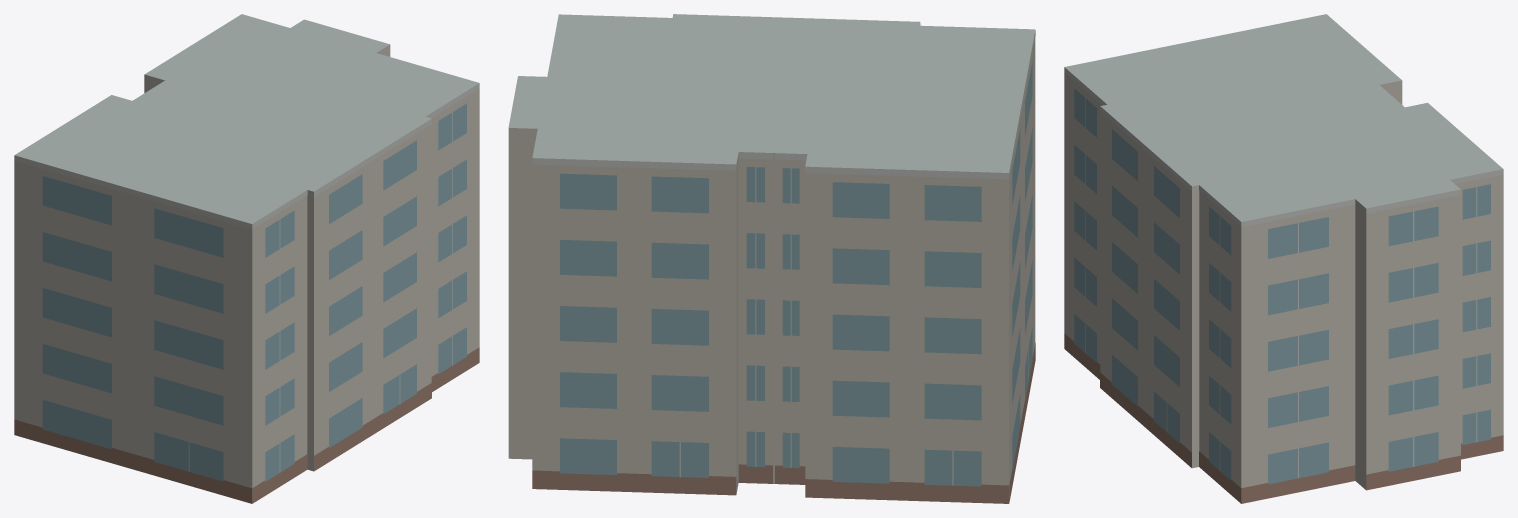
File: survey-upis-32739647.glb
3 views of the same model, side by side, from view 1: azimuth 30°, elevation 25°; view 2: azimuth 150°, elevation 25°; view 3: azimuth 270°, elevation 25° (orthographic). The views are drawn at different scales.
Visible parts, largest first — view 1: survey-upis-32739647.tmp; view 2: survey-upis-32739647.tmp; view 3: survey-upis-32739647.tmp.
Part boxes in pixels (x1,y1,x2,y2): survey-upis-32739647.tmp: (14,14,479,503); survey-upis-32739647.tmp: (508,14,1035,503); survey-upis-32739647.tmp: (1064,14,1503,503).
Bounding box in the file's own units: 20.11 × 12.7 × 17.94.
